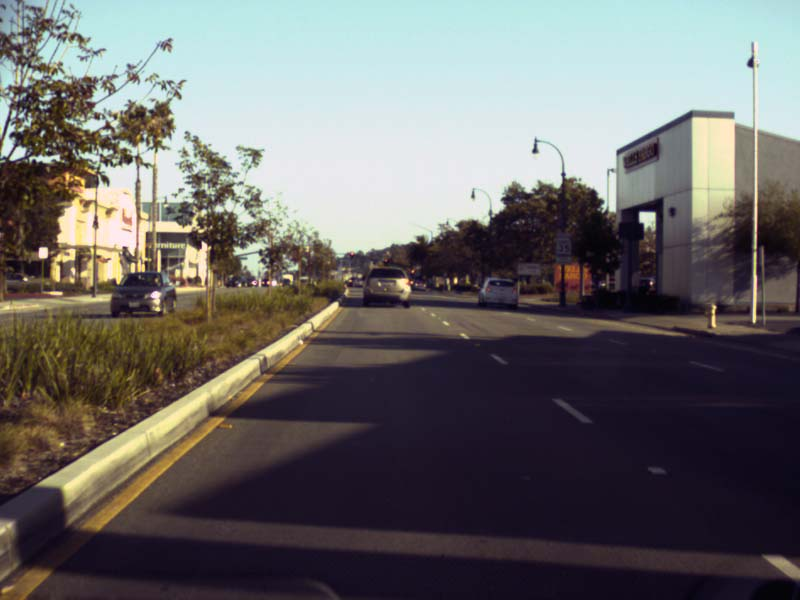Red: (350, 252, 353, 258), (384, 259, 387, 264)
Yellow: (411, 267, 414, 274)
